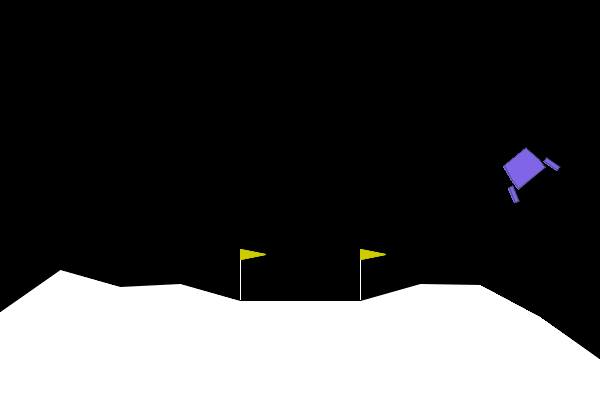lander: (490, 137, 562, 206)
